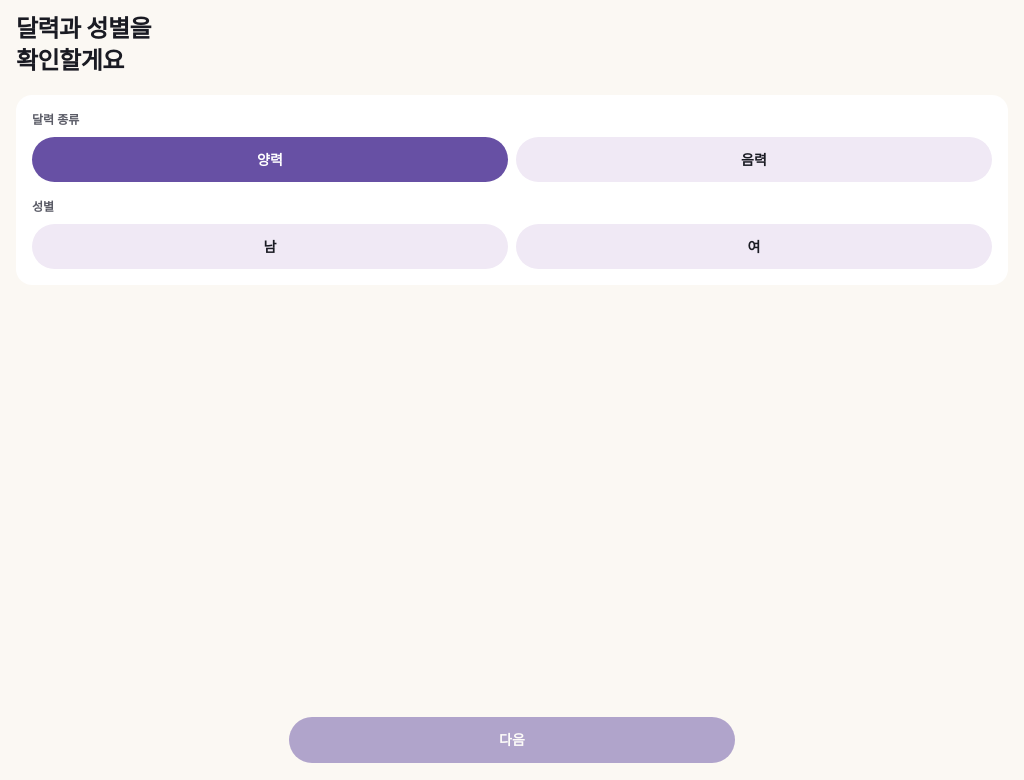
Test case: OnboardingCalGenderPage (Step 3) › 다음 is disabled until gender is selected
The image size is (1024, 780).
Expected: the button "다음" is disabled, [288,716,736,764]
Click the radio button labelled "남": [270, 247] box [32,224,508,269]
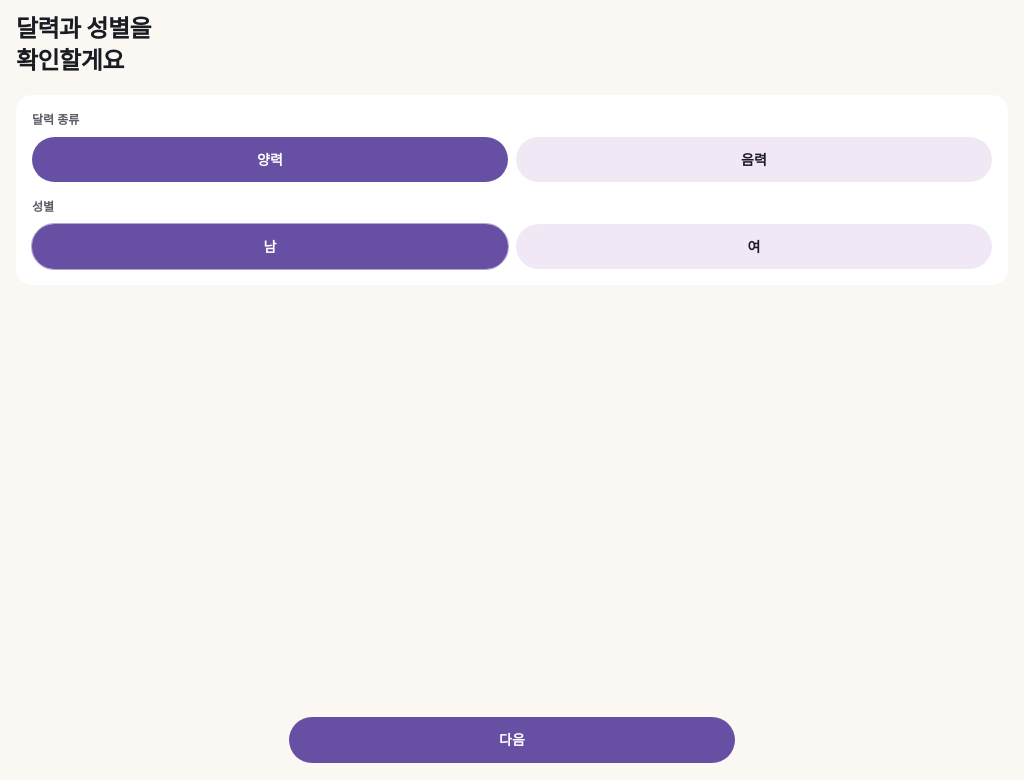
Result: the button "다음" is enabled at [288,716,736,764]
